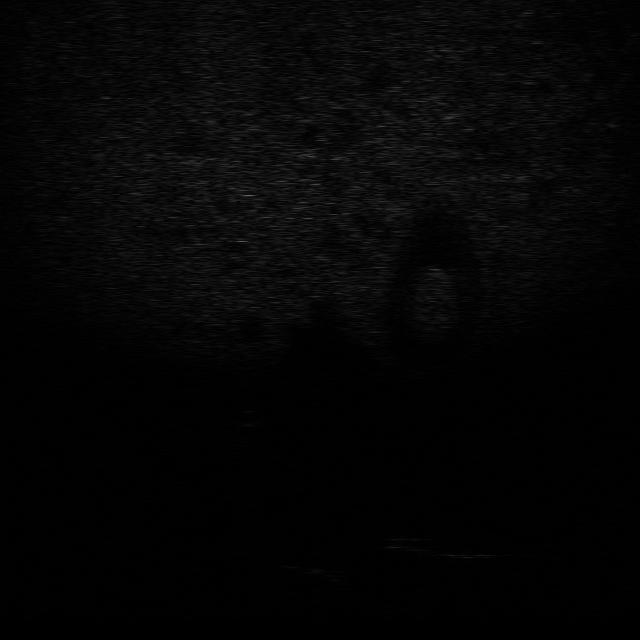ball: (228, 405, 266, 427)
metal bucket: (278, 560, 356, 587)
tyre: (388, 530, 522, 564)
